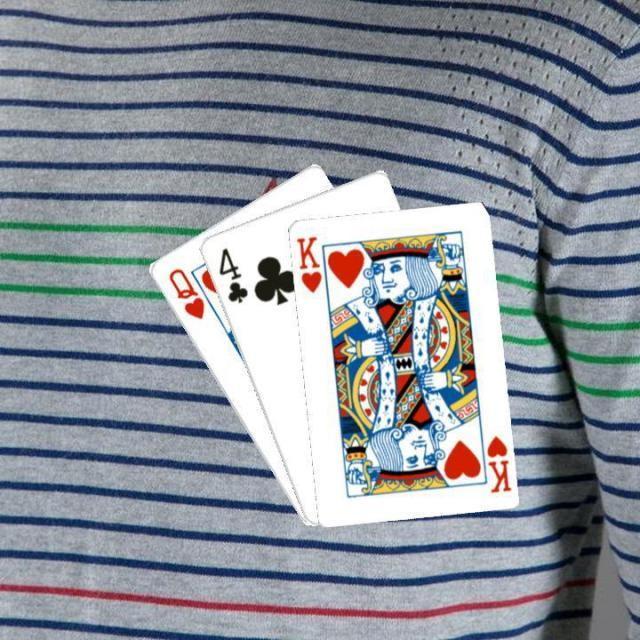4C: (214, 243, 250, 305)
KH: (293, 232, 324, 294), (482, 431, 512, 494)
QH: (164, 264, 206, 322)
